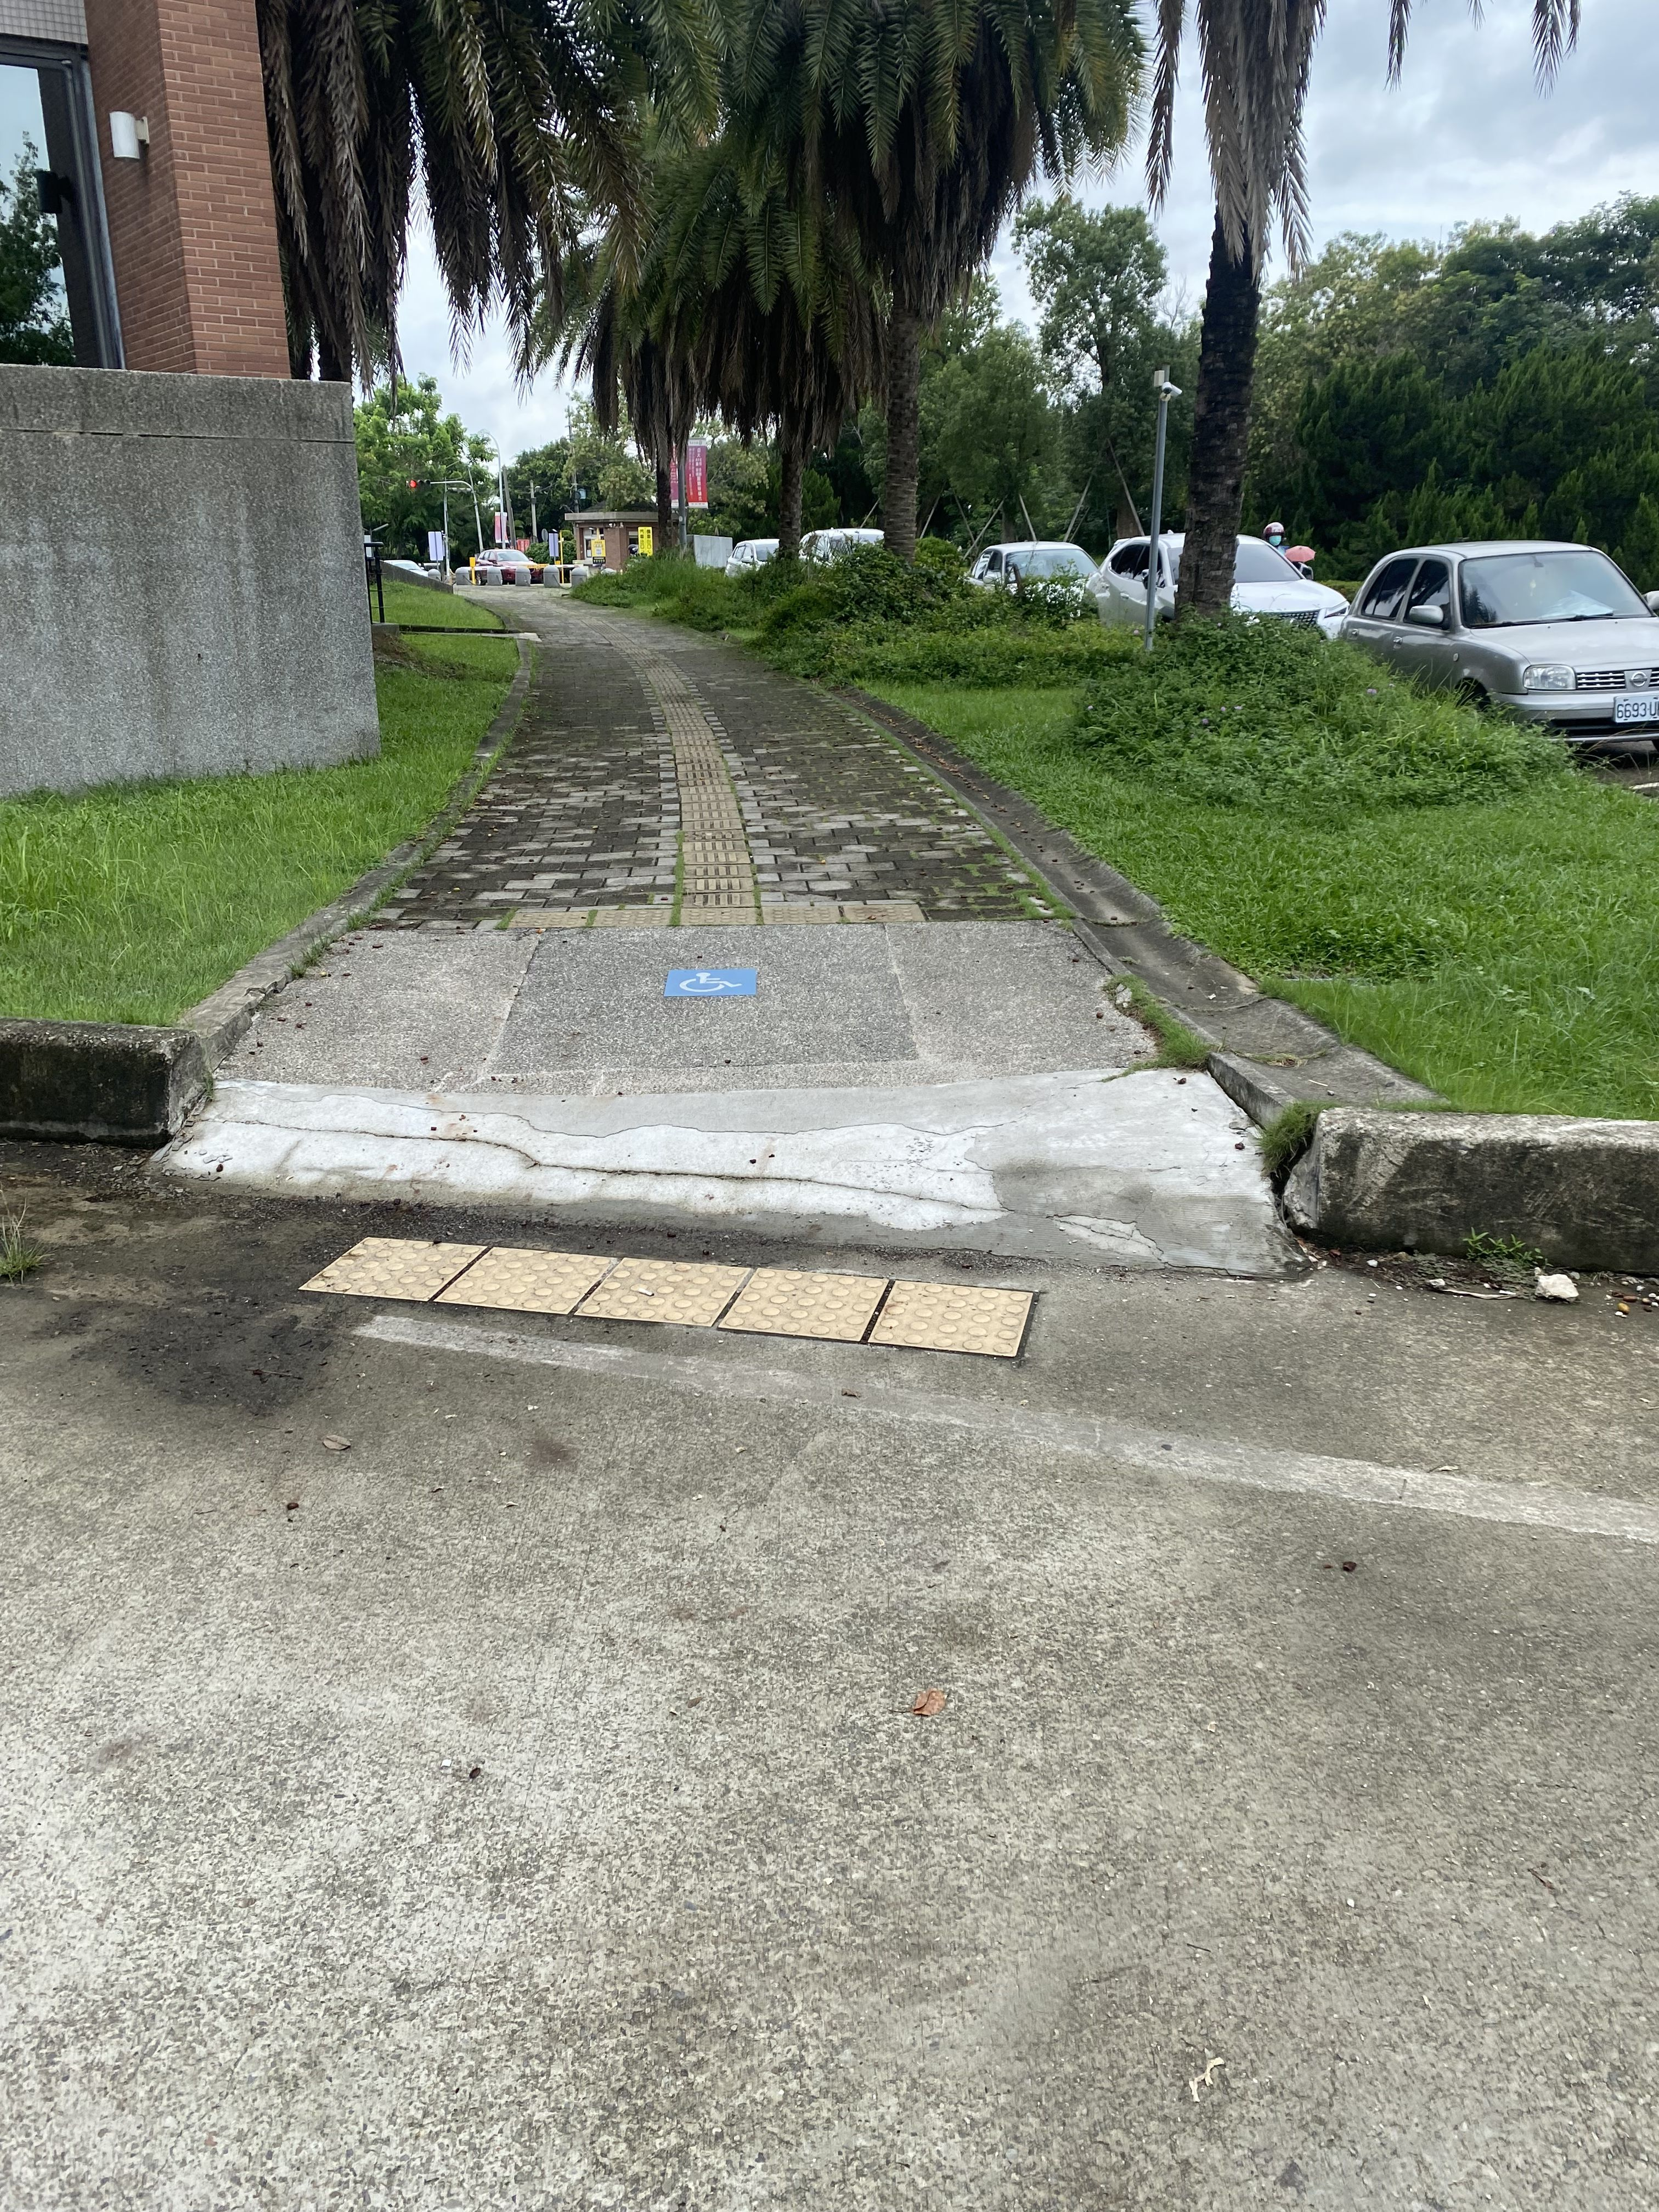sidewalk: (173, 554, 1370, 1420)
